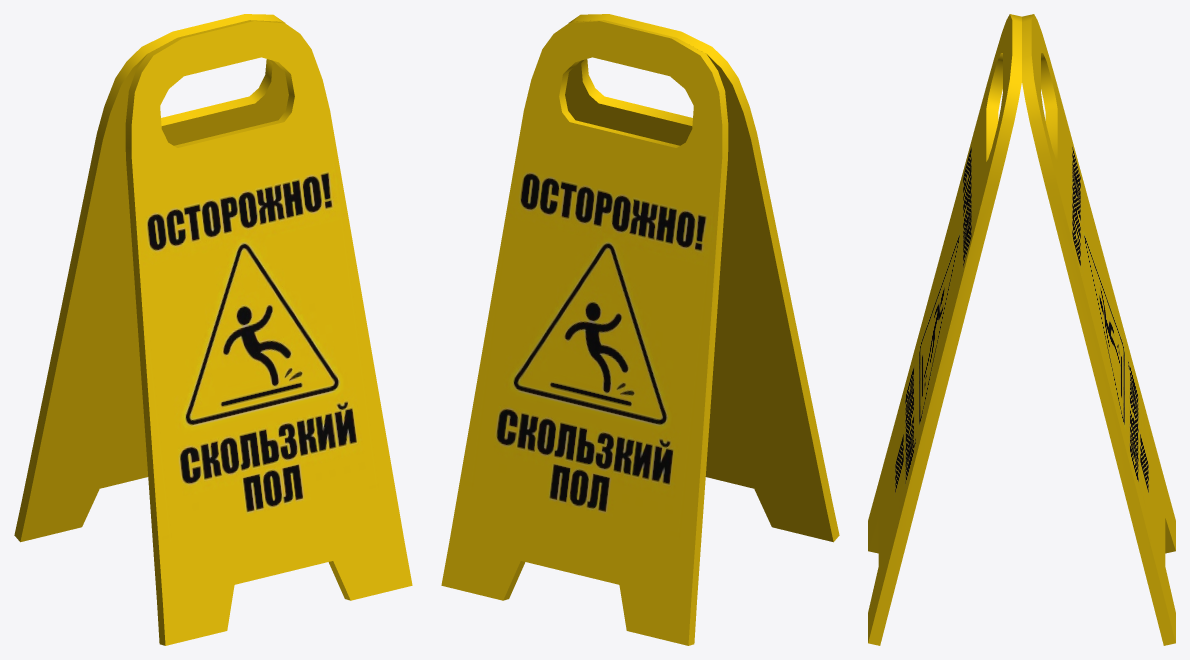
File: caution.fbx
3 views of the same model, side by side, from view 1: azimuth 30°, elevation 25°; view 2: azimuth 150°, elevation 25°; view 3: azimuth 270°, elevation 25° (orthographic).
Visible parts, largest first — view 1: Plane, Plane.001; view 2: Plane.001, Plane; view 3: Plane, Plane.001.
Part boxes in pixels (bbox=[...]): Plane: bbox=[125, 20, 412, 645]; Plane.001: bbox=[14, 14, 288, 542]; Plane.001: bbox=[441, 20, 728, 645]; Plane: bbox=[565, 14, 839, 542]; Plane: bbox=[868, 14, 1021, 645]; Plane.001: bbox=[1022, 14, 1175, 645].
Bounding box in the file's own units: 238 × 495 × 253.
Materials: 1 (1 with a texture image).
